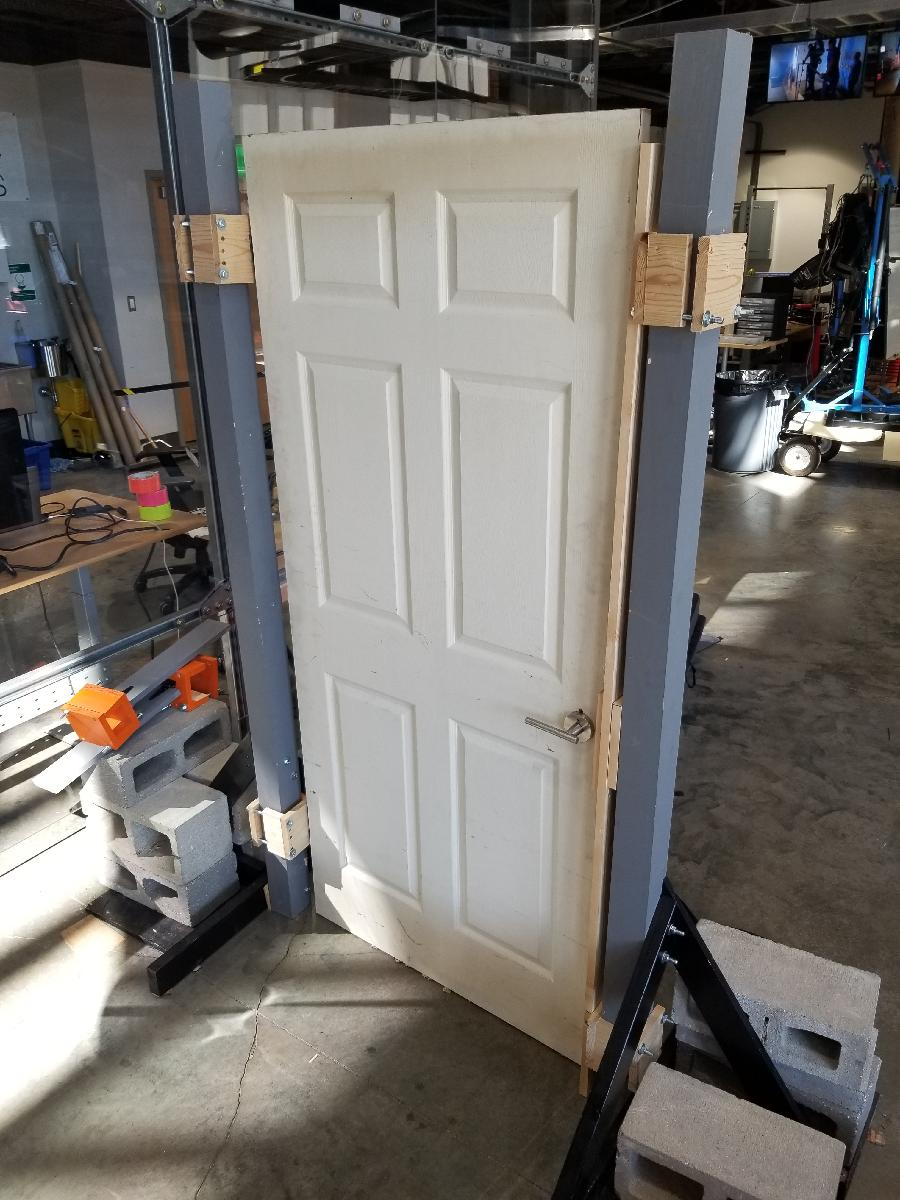door: (238, 104, 655, 1082)
doorHandle: (520, 702, 598, 759)
